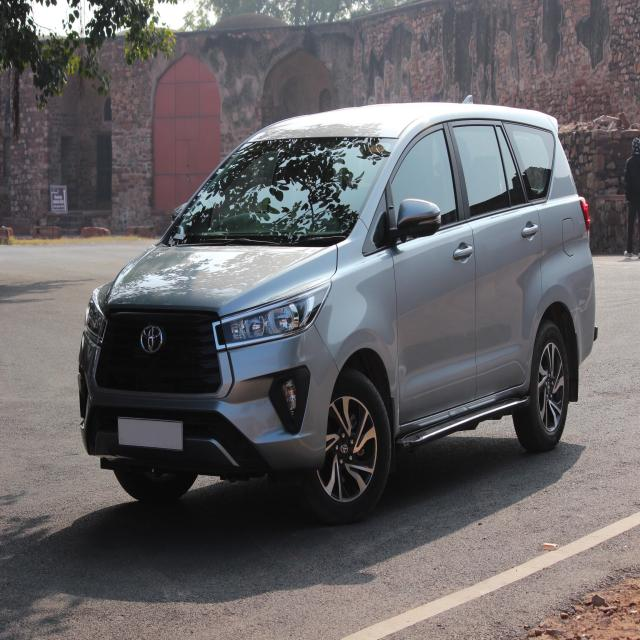light_vehicle: (77, 98, 598, 524)
